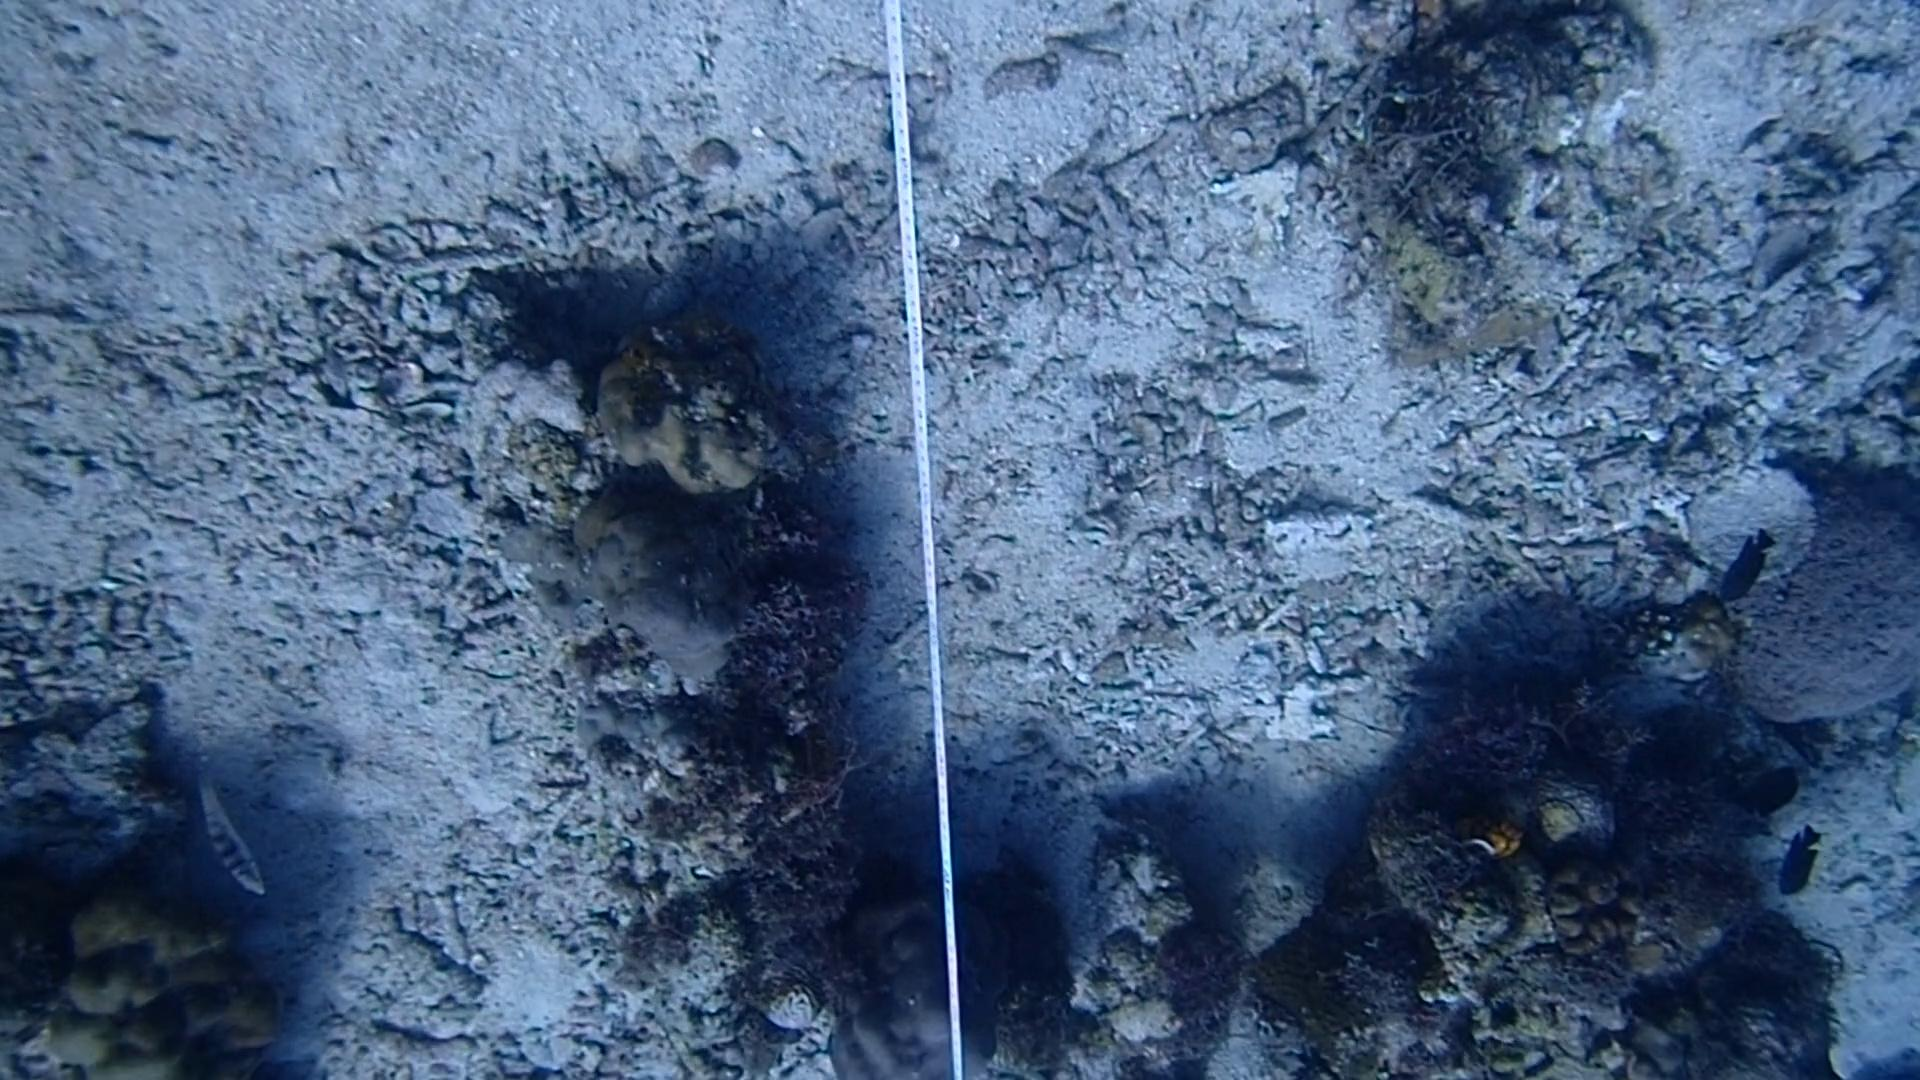Dark Fish: (1708, 520, 1779, 616), (1731, 753, 1813, 832), (1772, 815, 1825, 911)
Light Fish w Back Stripes: (182, 773, 280, 905)
